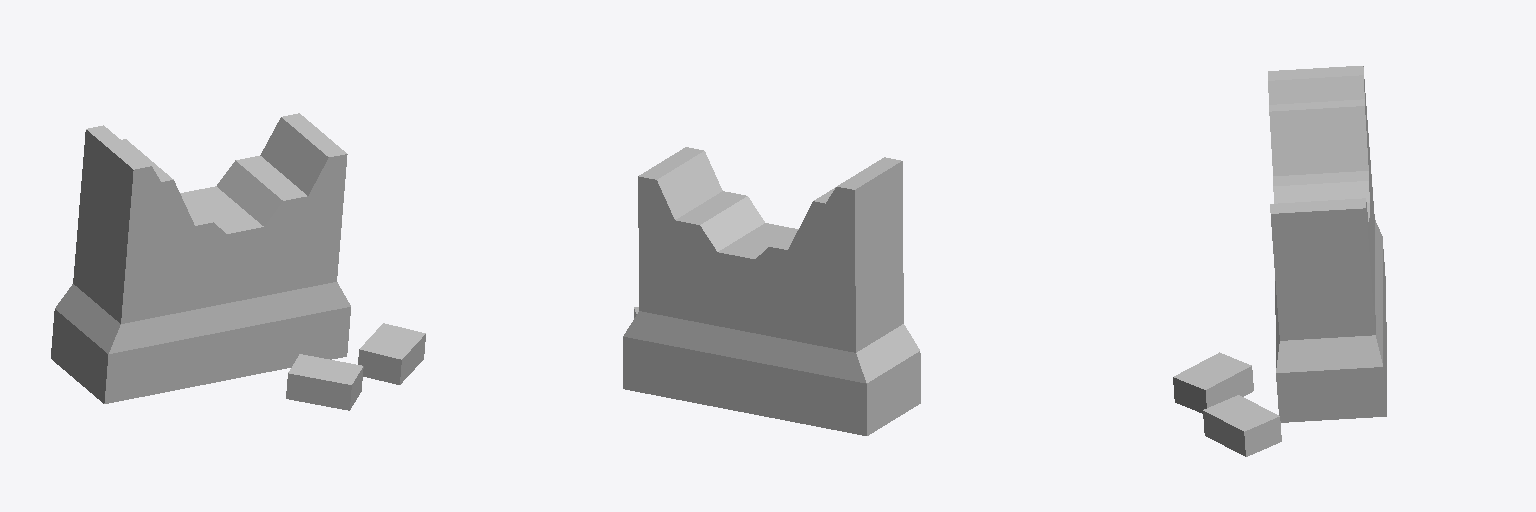
File: Gravestone_Broken_2 2.obj
3 views of the same model, side by side, from view 1: azimuth 30°, elevation 25°; view 2: azimuth 150°, elevation 25°; view 3: azimuth 270°, elevation 25° (orthographic).
Parts seen in each view (by area): view 1: Gravestone_Broken_2; view 2: Gravestone_Broken_2; view 3: Gravestone_Broken_2.
Boxes of the visible parts, x1,y1,x2,y2 form: Gravestone_Broken_2: [51, 113, 425, 410]; Gravestone_Broken_2: [623, 147, 920, 435]; Gravestone_Broken_2: [1173, 66, 1386, 456].
Bounding box in the file's own units: 0.4877 × 0.3913 × 0.2972.